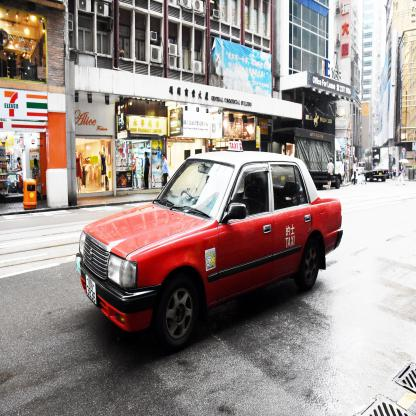taxi: (77, 137, 347, 358)
